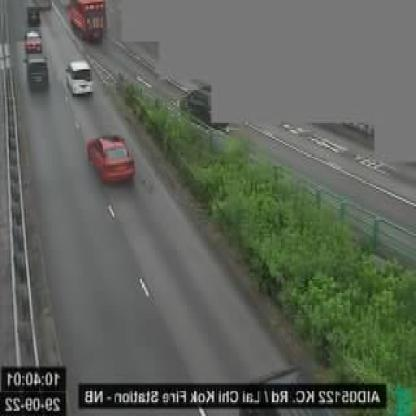Car: (80, 130, 142, 185), (65, 57, 97, 101), (22, 52, 52, 95), (22, 24, 47, 57)
Truck: (64, 0, 116, 55)
